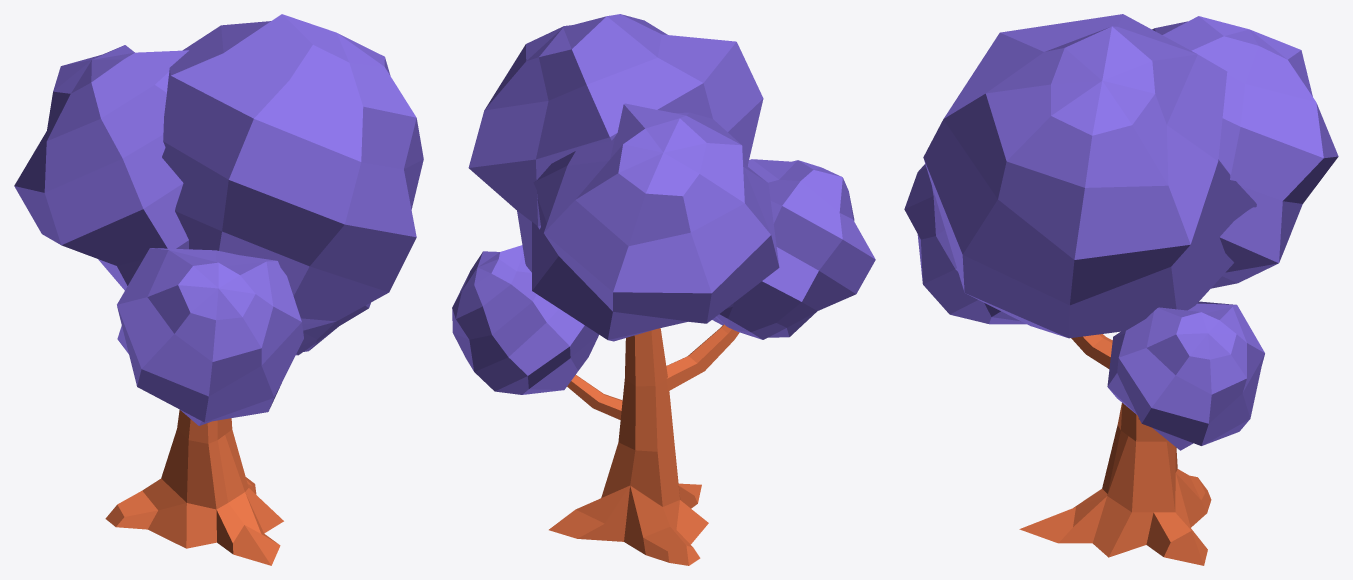
File: Tree_Oak.fbx
3 renders of one model, left to right at view 1: azimuth 30°, elevation 25°; view 2: azimuth 150°, elevation 25°; view 3: azimuth 270°, elevation 25°, orthographic. The views are drawn at different scales.
Visible parts, largest first — view 1: Tree_Oak; view 2: Tree_Oak; view 3: Tree_Oak.
Part boxes in pixels (x1,y1,x2,y2): Tree_Oak: (14,14,423,565); Tree_Oak: (452,14,875,565); Tree_Oak: (904,14,1338,565).
Size of the model in its own units: 193 by 279 by 207.
